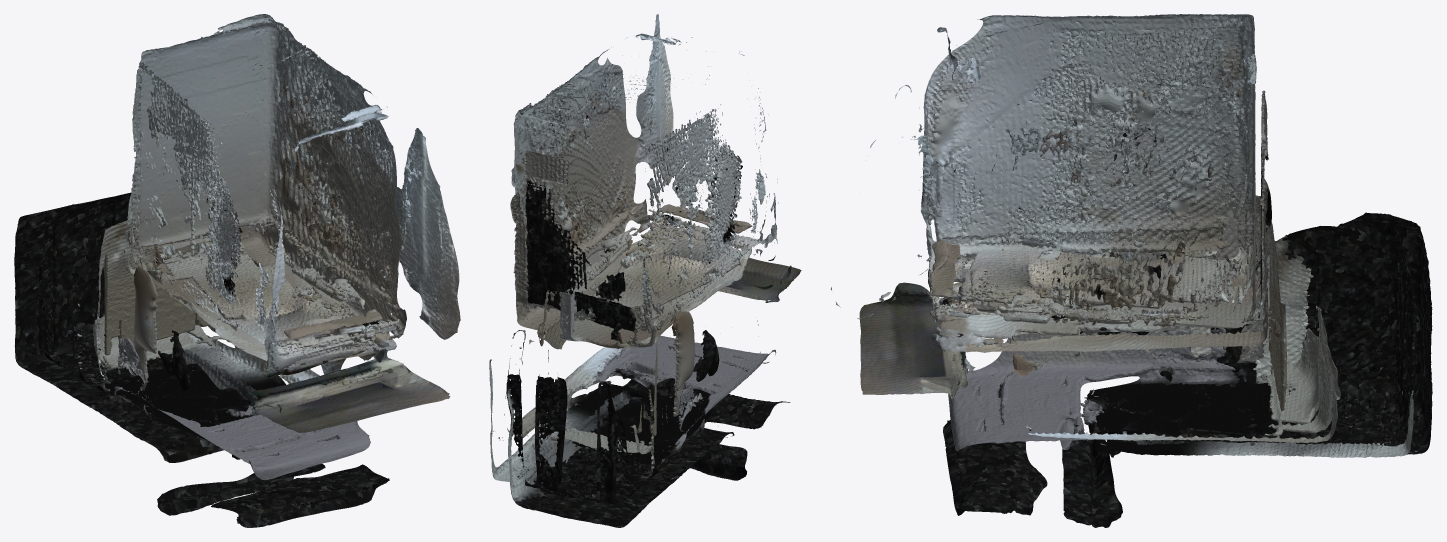
The picture shows the model from 3 angles, left to right: view 1: azimuth 30°, elevation 25°; view 2: azimuth 150°, elevation 25°; view 3: azimuth 270°, elevation 25°; orthographic projection. The views are drawn at different scales.
Bounding box in the file's own units: 0.5193 × 1.01 × 1.14.
Materials: 1 (1 with a texture image).
